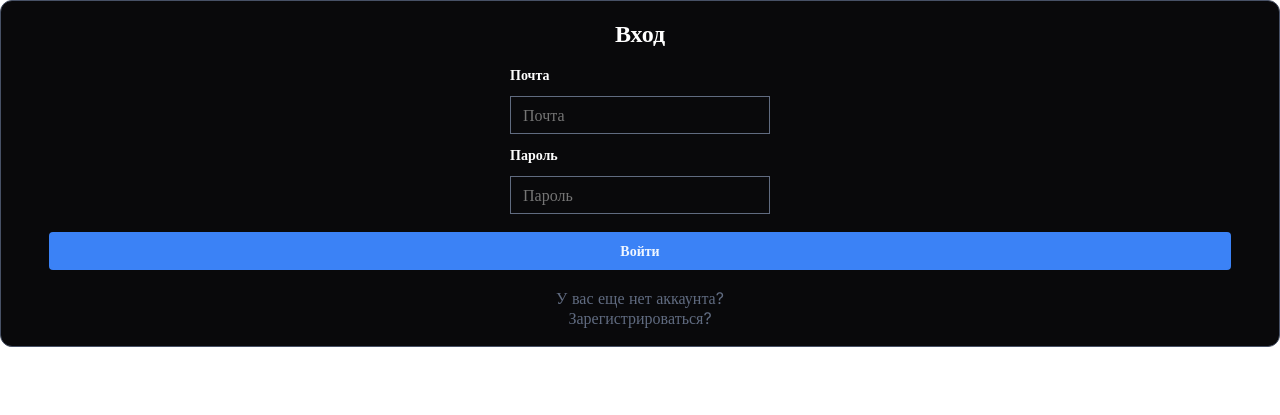
Test case: LoginPage › валидирует форму перед отправкой
Попытка отправить пустую форму
Click the button "Войти" at (640, 251), box [49, 232, 1231, 270]
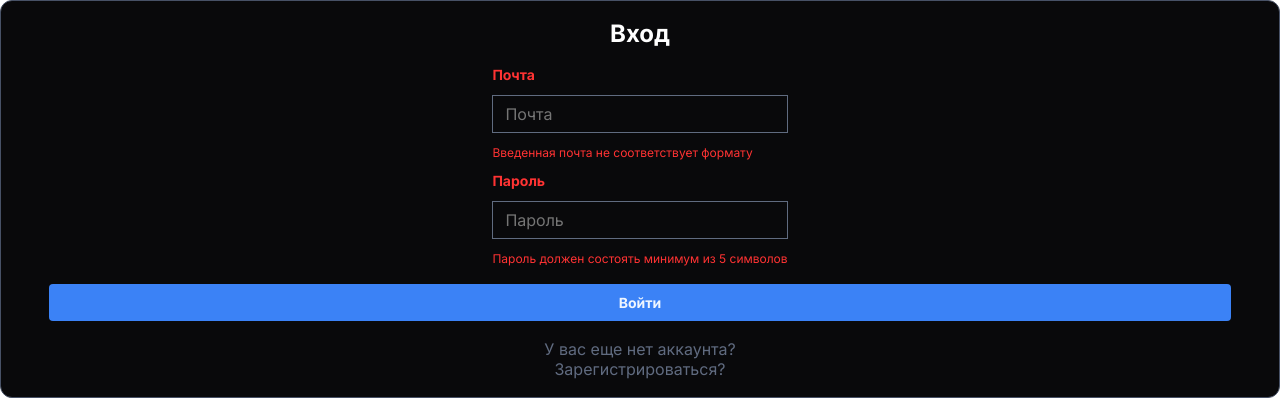
Now the text "Введенная почта не соответствует формату" is shown, box [492, 145, 788, 160]
Now the text "Пароль должен состоять минимум из 5 символов" is shown, box [492, 251, 788, 266]
